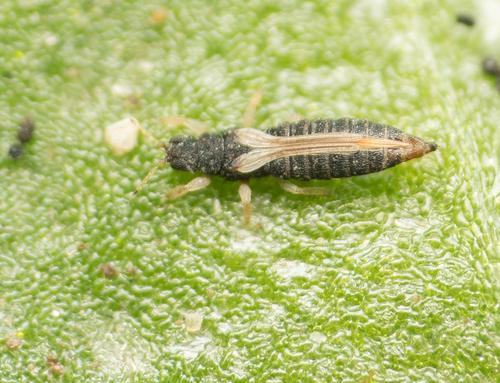Thripidae: (129, 89, 441, 228)
